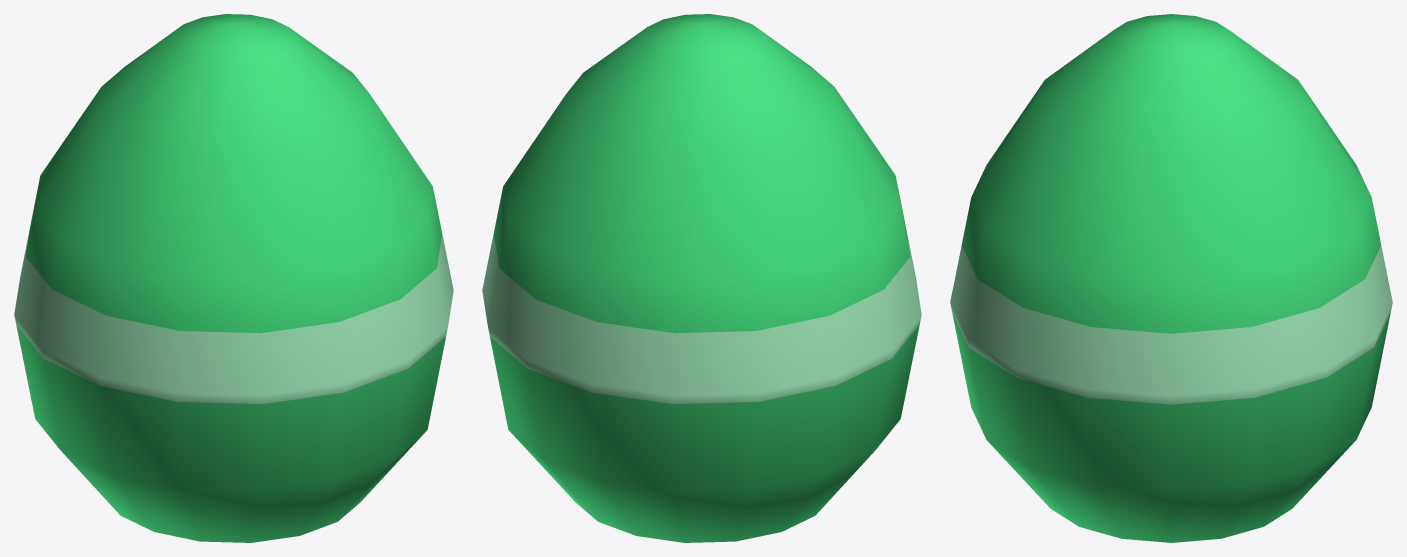
The model's file is EmeraldEgg.fbx.
The picture shows the model from 3 angles, left to right: view 1: azimuth 30°, elevation 25°; view 2: azimuth 150°, elevation 25°; view 3: azimuth 270°, elevation 25°; orthographic projection.
Visible parts, largest first — view 1: EmeraldEgg; view 2: EmeraldEgg; view 3: EmeraldEgg.
Boxes of the visible parts, x1,y1,x2,y2 form: EmeraldEgg: (14, 14, 453, 542); EmeraldEgg: (482, 14, 921, 542); EmeraldEgg: (950, 14, 1392, 542).
Bounding box in the file's own units: 2.1 × 2.5 × 2.1.
1 material, 1 textured.
